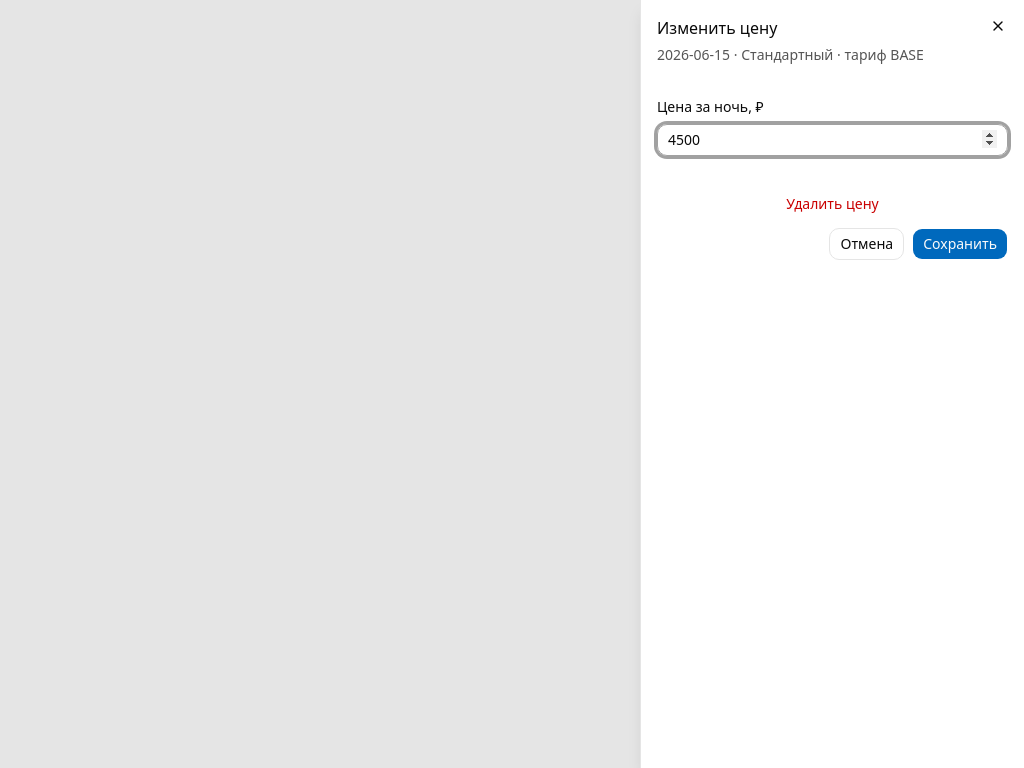
it: SingleRateEditSheet — adversarial failure › [E1] upsert rejection → error banner с err.message renders; sheet stays open
The width and height of the screenshot is (1024, 768).
Click the button "Сохранить" at (960, 244), box [912, 228, 1008, 260]
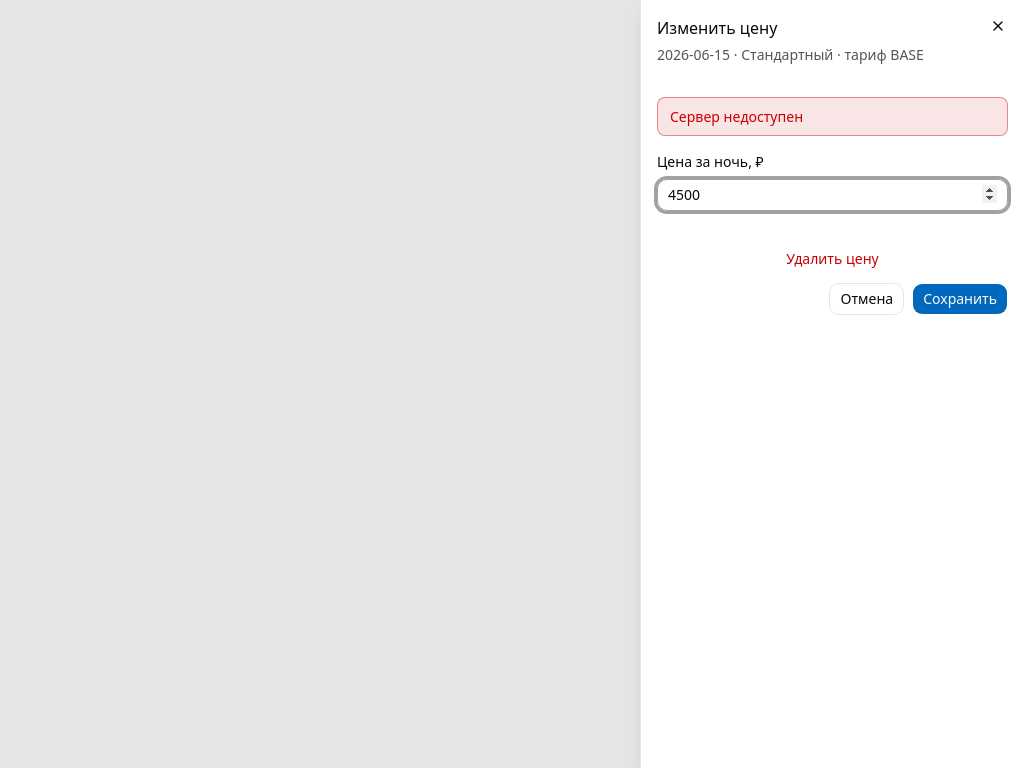
Expected: the message "Сервер недоступен" is shown, [657, 97, 1008, 136]
Expected: the message reads "Сервер недоступен", [670, 107, 803, 126]
